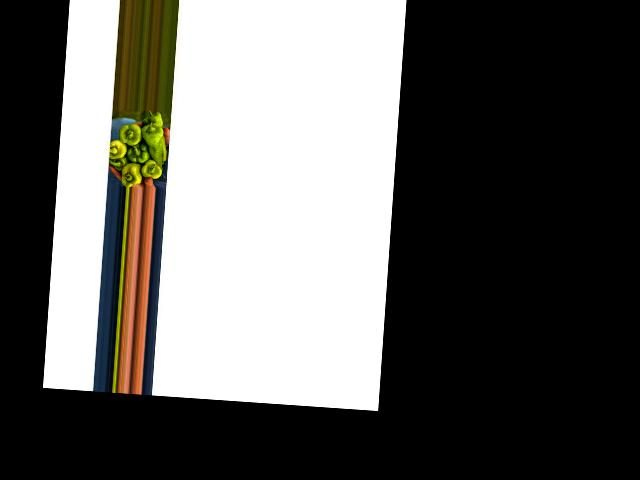bell_pepper: (118, 160, 141, 187)
